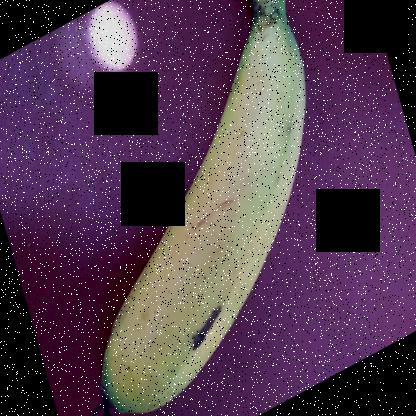ripe: (102, 1, 312, 408)
